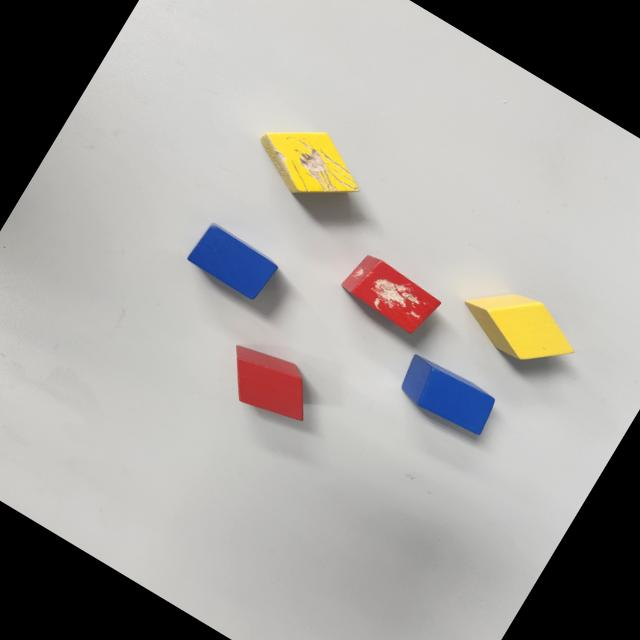blue: (392, 350, 499, 440), (184, 221, 280, 304)
broken: (244, 106, 374, 222), (338, 250, 446, 342)
red: (211, 332, 326, 434)
yellow: (452, 270, 588, 384)
